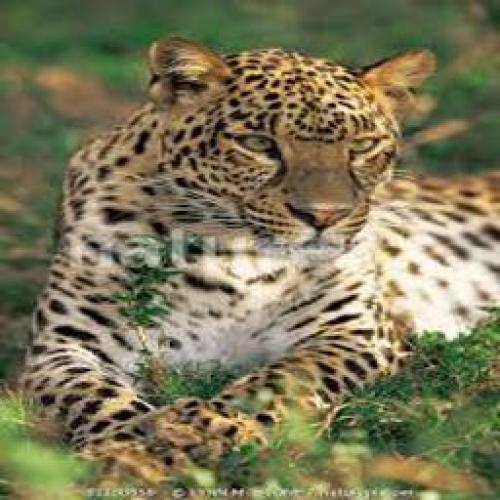amur_leopard-endangered: (25, 38, 500, 423)
